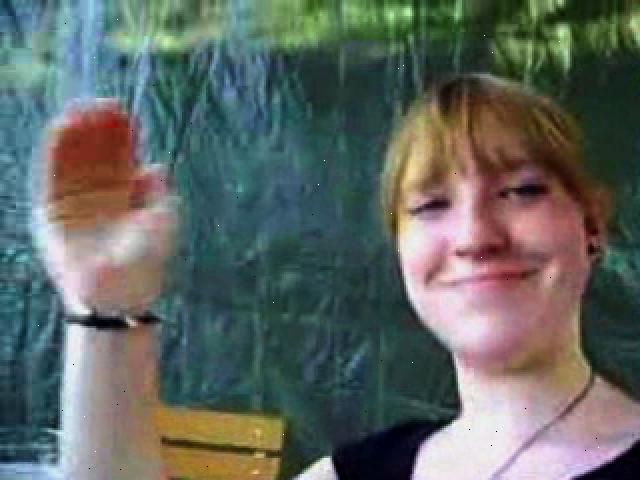T: (29, 71, 640, 476)
